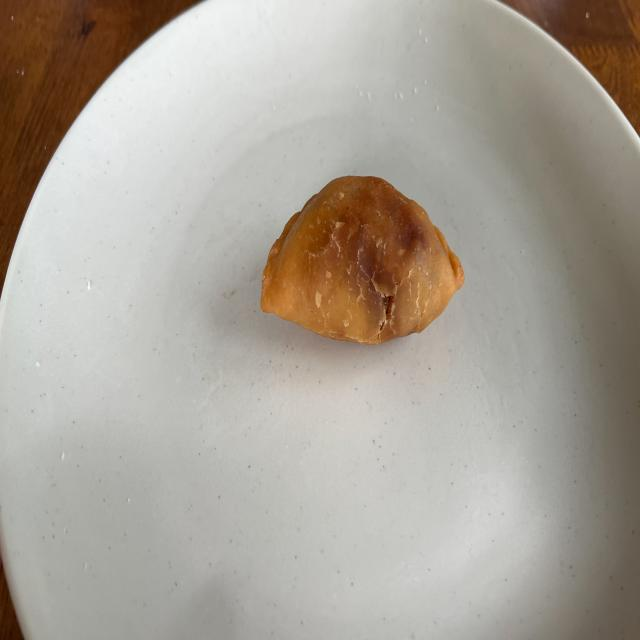karipap: (260, 176, 464, 344)
